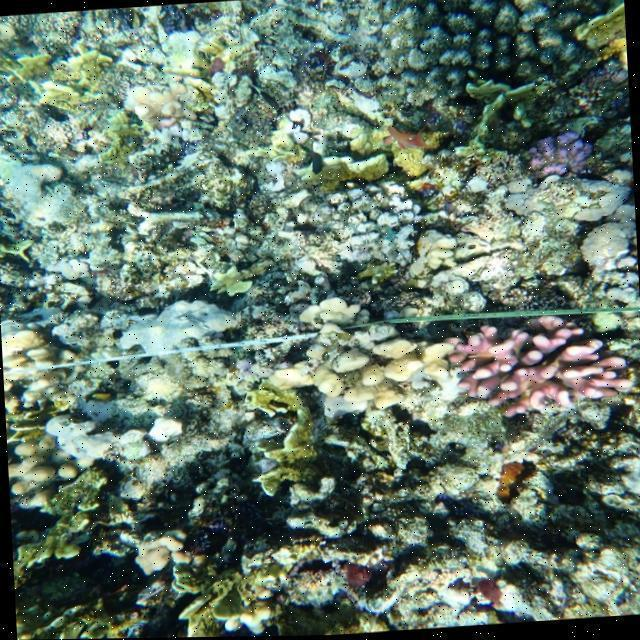Bleached Coral: (278, 180, 439, 289), (104, 281, 253, 387), (0, 91, 76, 242), (33, 409, 192, 474)
Healthy Coral: (429, 321, 639, 414)
